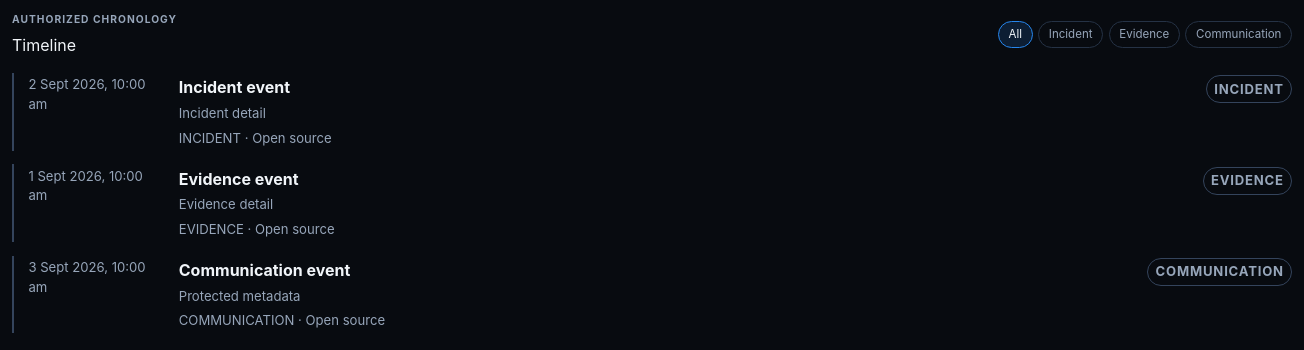
Scenario: TimelineList › filters authoritative communication and financial timeline projections
Click the button "communication".
click(1239, 34)  # box x1=1186 y1=20 x2=1292 y2=48
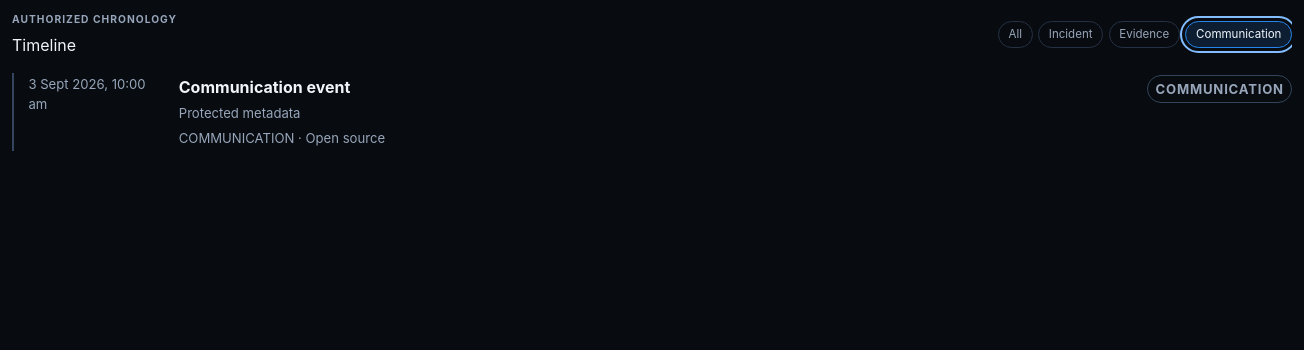
Check: the text "Communication event" is shown, box x1=179 y1=77 x2=350 y2=97
Check: the text "Incident event" is gone
